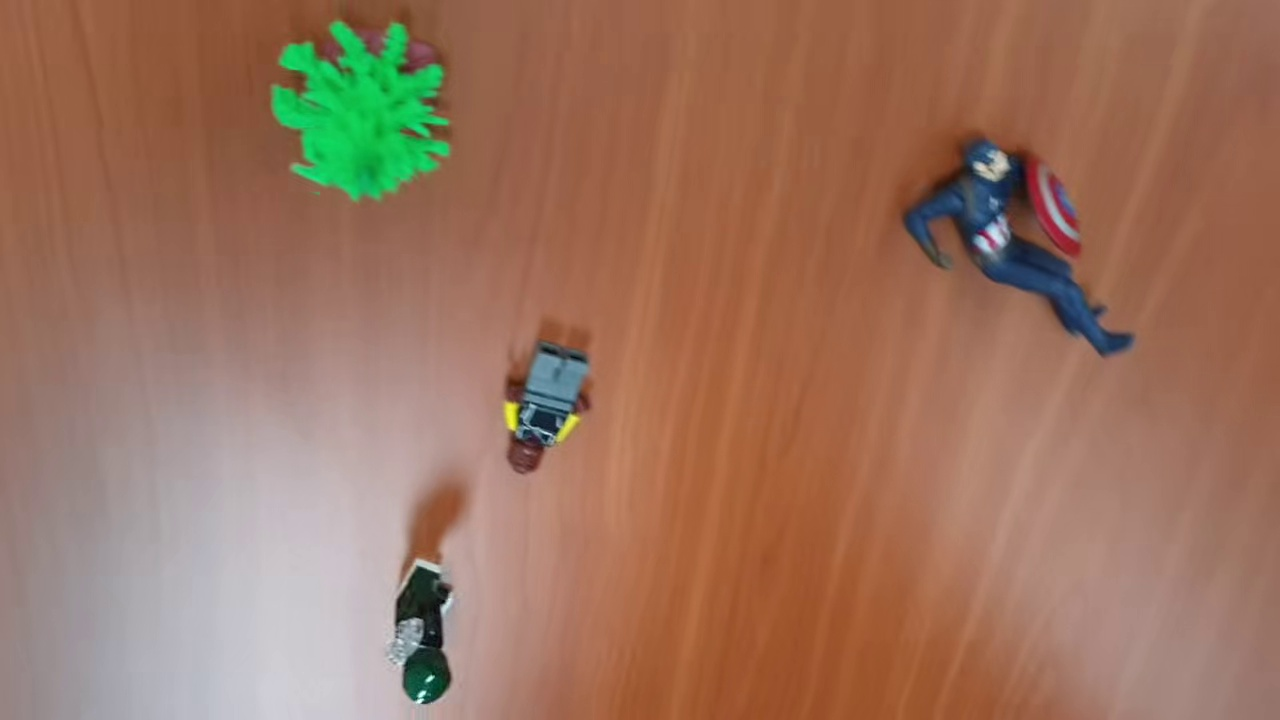people: (899, 143, 1141, 358), (494, 340, 594, 478), (389, 556, 461, 708)
tree: (271, 17, 452, 202)
